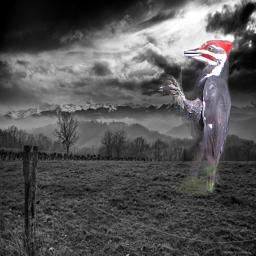Woodpecker: (157, 40, 236, 194)
